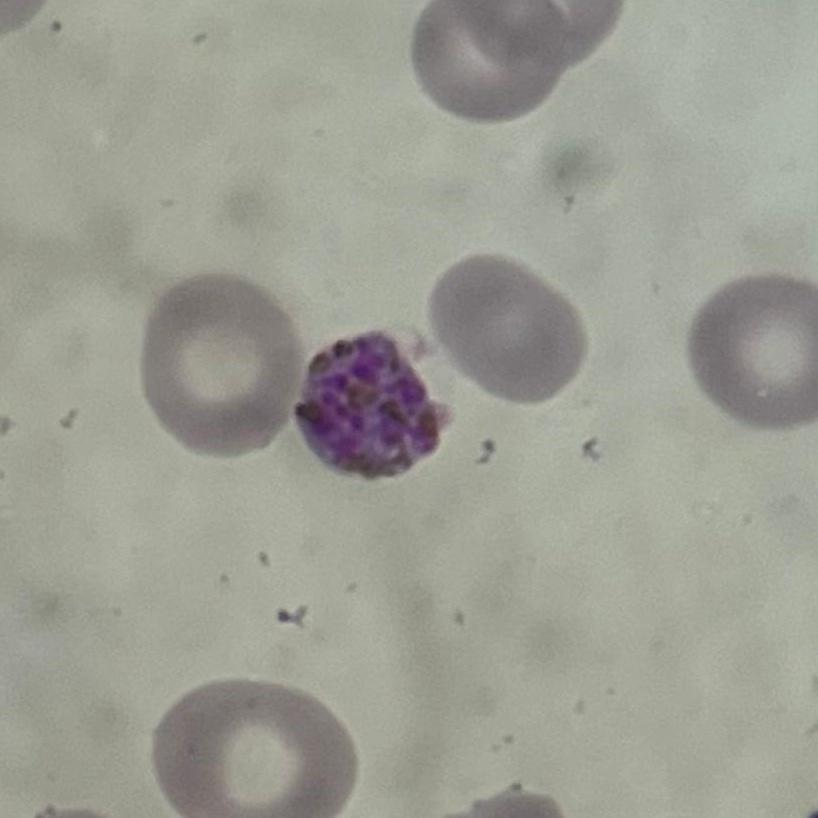Infected: (300, 336, 442, 481)
Uninfected: (138, 277, 295, 455), (153, 684, 359, 818), (428, 254, 587, 406), (687, 276, 818, 430)
